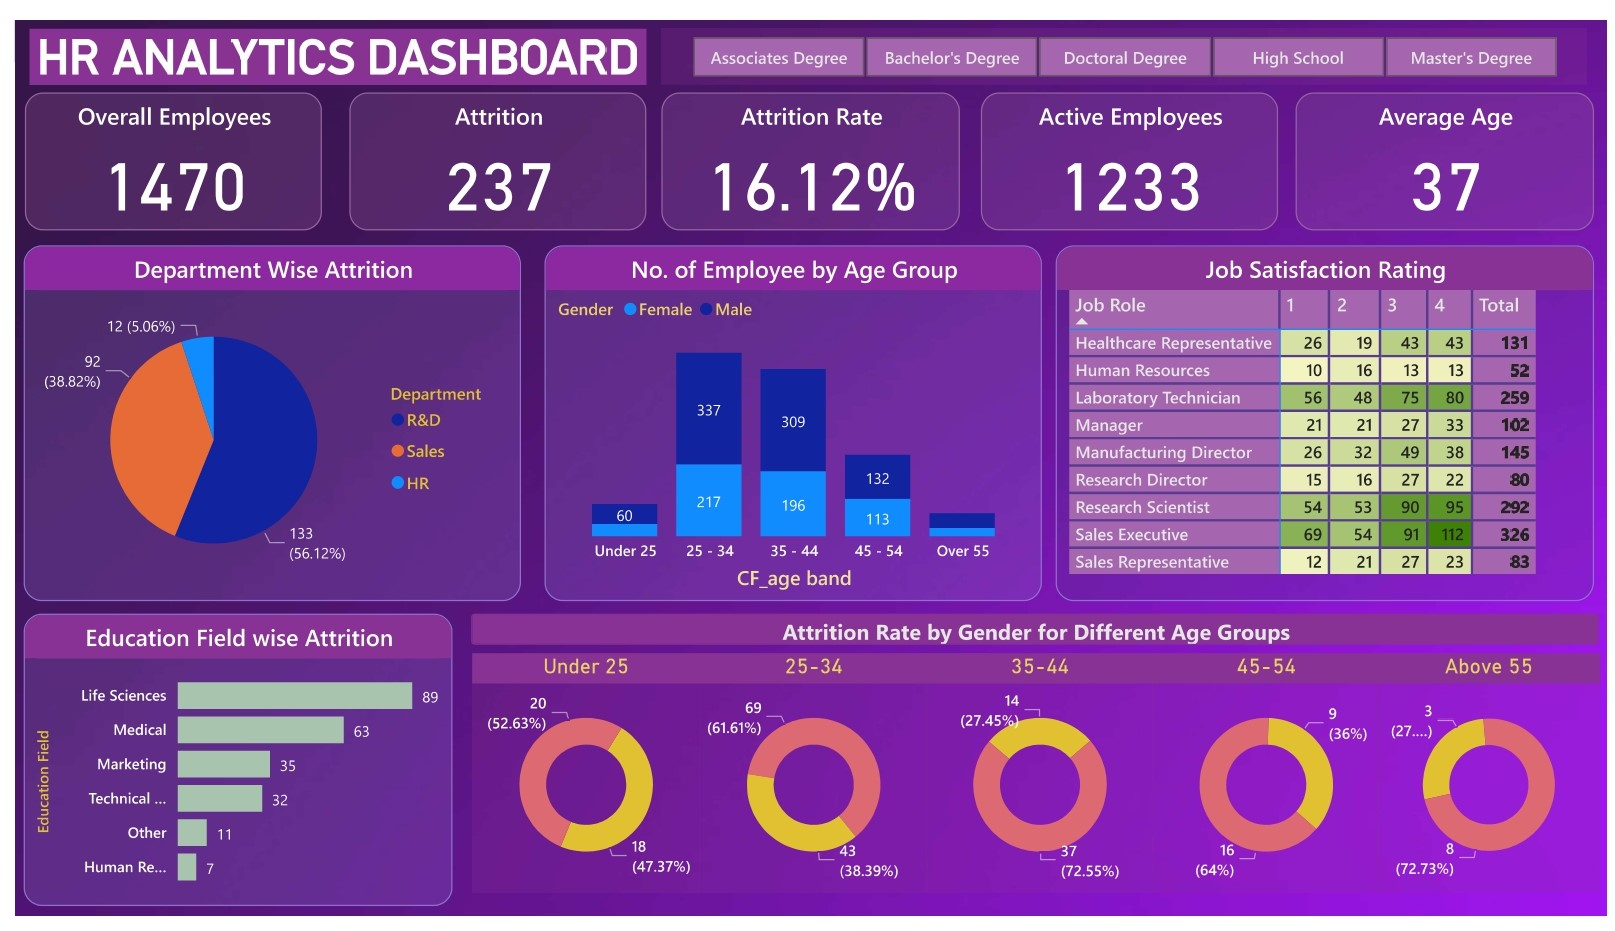

Layout of this report page (visuals, bound fields, positions):
{"tool":"powerbi","page":{"name":"Page 1","canvas":[1280,720],"ordinal":0},"visuals":[{"type":"card","title":"Overall Employees","fields":{"Values":["Sum(HR Data xlsx - HR data.Employee Count)"]},"box":[7.7,58.3,239.5,110.5],"z":0},{"type":"card","title":"Attrition","fields":{"Values":["Sum(HR Data xlsx - HR data.Attrition Count)"]},"box":[268.7,58.3,239.5,110.5],"z":1000},{"type":"card","title":"Attrition Rate","fields":{"Values":["HR Data xlsx - HR data.Attrition Rate"]},"box":[520.4,58.3,239.5,110.5],"z":2000},{"type":"card","title":"Active Employees","fields":{"Values":["HR Data xlsx - HR data.Active employees"]},"box":[776.8,58.3,239.5,110.5],"z":3000},{"type":"card","title":"Average Age","fields":{"Values":["Avg(HR Data xlsx - HR data.Age)"]},"box":[1030.1,58.3,239.5,110.5],"z":4000},{"type":"pieChart","title":"Department Wise Attrition","fields":{"Category":["HR Data xlsx - HR data.Department"],"Y":["Sum(HR Data xlsx - HR data.Attrition Count)"]},"box":[7.1,181.4,400,285.7],"z":5000},{"type":"columnChart","title":"No. of Employee by Age Group","fields":{"Category":["HR Data xlsx - HR data.CF_age band"],"Y":["Sum(HR Data xlsx - HR data.Employee Count)"],"Series":["HR Data xlsx - HR data.Gender"]},"box":[425.7,181.4,400,285.7],"z":6000},{"type":"pivotTable","title":"Job Satisfaction Rating","fields":{"Columns":["HR Data xlsx - HR data.Job Satisfaction"],"Rows":["HR Data xlsx - HR data.Job Role"],"Values":["Sum(HR Data xlsx - HR data.Employee Count)"]},"box":[836.7,181.2,432.9,285.5],"z":7000},{"type":"barChart","title":"Education Field wise Attrition","fields":{"Category":["HR Data xlsx - HR data.Education Field"],"Y":["Sum(HR Data xlsx - HR data.Attrition Count)"]},"box":[7.1,477.1,345,235],"z":8000},{"type":"donutChart","title":"Under 25","fields":{"Category":["HR Data xlsx - HR data.Gender"],"Y":["Sum(HR Data xlsx - HR data.Attrition Count)"],"Series":["HR Data xlsx - HR data.CF_age band"]},"box":[368,508.9,183,192],"z":9000},{"type":"textbox","title":"Attrition Rate by Gender for Different Age Groups","box":[366.7,476.7,907,25],"z":10000},{"type":"donutChart","title":"25-34","fields":{"Category":["HR Data xlsx - HR data.Gender"],"Y":["Sum(HR Data xlsx - HR data.Attrition Count)"],"Series":["HR Data xlsx - HR data.CF_age band"]},"box":[551.3,508.9,183,192],"z":11000},{"type":"donutChart","title":"35-44","fields":{"Category":["HR Data xlsx - HR data.Gender"],"Y":["Sum(HR Data xlsx - HR data.Attrition Count)"],"Series":["HR Data xlsx - HR data.CF_age band"]},"box":[733,508.9,183,192],"z":12000},{"type":"donutChart","title":"45-54","fields":{"Category":["HR Data xlsx - HR data.Gender"],"Y":["Sum(HR Data xlsx - HR data.Attrition Count)"],"Series":["HR Data xlsx - HR data.CF_age band"]},"box":[914.7,508.9,183,192],"z":13000},{"type":"donutChart","title":"Above 55","fields":{"Category":["HR Data xlsx - HR data.Gender"],"Y":["Sum(HR Data xlsx - HR data.Attrition Count)"],"Series":["HR Data xlsx - HR data.CF_age band"]},"box":[1096.2,508.8,179,192.5],"z":14000},{"type":"textbox","title":"HR ANALYTICS DASHBOARD","box":[11.7,6.7,496.7,45],"z":15000},{"type":"slicer","fields":{"Values":["HR Data xlsx - HR data.Education"]},"box":[520,6.7,744,45],"z":16000}]}

Visuals, with their boxes in screenshot pixels (x1, y1, x2, y2), scaled from the page's 1280x720 canvas onto the 1615x931 screenshot:
"Overall Employees" card: bbox=[10, 75, 312, 218]
"Attrition" card: bbox=[339, 75, 641, 218]
"Attrition Rate" card: bbox=[657, 75, 959, 218]
"Active Employees" card: bbox=[980, 75, 1282, 218]
"Average Age" card: bbox=[1300, 75, 1602, 218]
"Department Wise Attrition" pieChart: bbox=[9, 235, 514, 604]
"No. of Employee by Age Group" columnChart: bbox=[537, 235, 1042, 604]
"Job Satisfaction Rating" pivotTable: bbox=[1056, 234, 1602, 603]
"Education Field wise Attrition" barChart: bbox=[9, 617, 444, 921]
"Under 25" donutChart: bbox=[464, 658, 695, 906]
"Attrition Rate by Gender for Different Age Groups" textbox: bbox=[463, 616, 1607, 649]
"25-34" donutChart: bbox=[696, 658, 926, 906]
"35-44" donutChart: bbox=[925, 658, 1156, 906]
"45-54" donutChart: bbox=[1154, 658, 1385, 906]
"Above 55" donutChart: bbox=[1383, 658, 1609, 907]
"HR ANALYTICS DASHBOARD" textbox: bbox=[15, 9, 641, 67]
slicer - HR Data xlsx - HR data.Education: bbox=[656, 9, 1595, 67]
